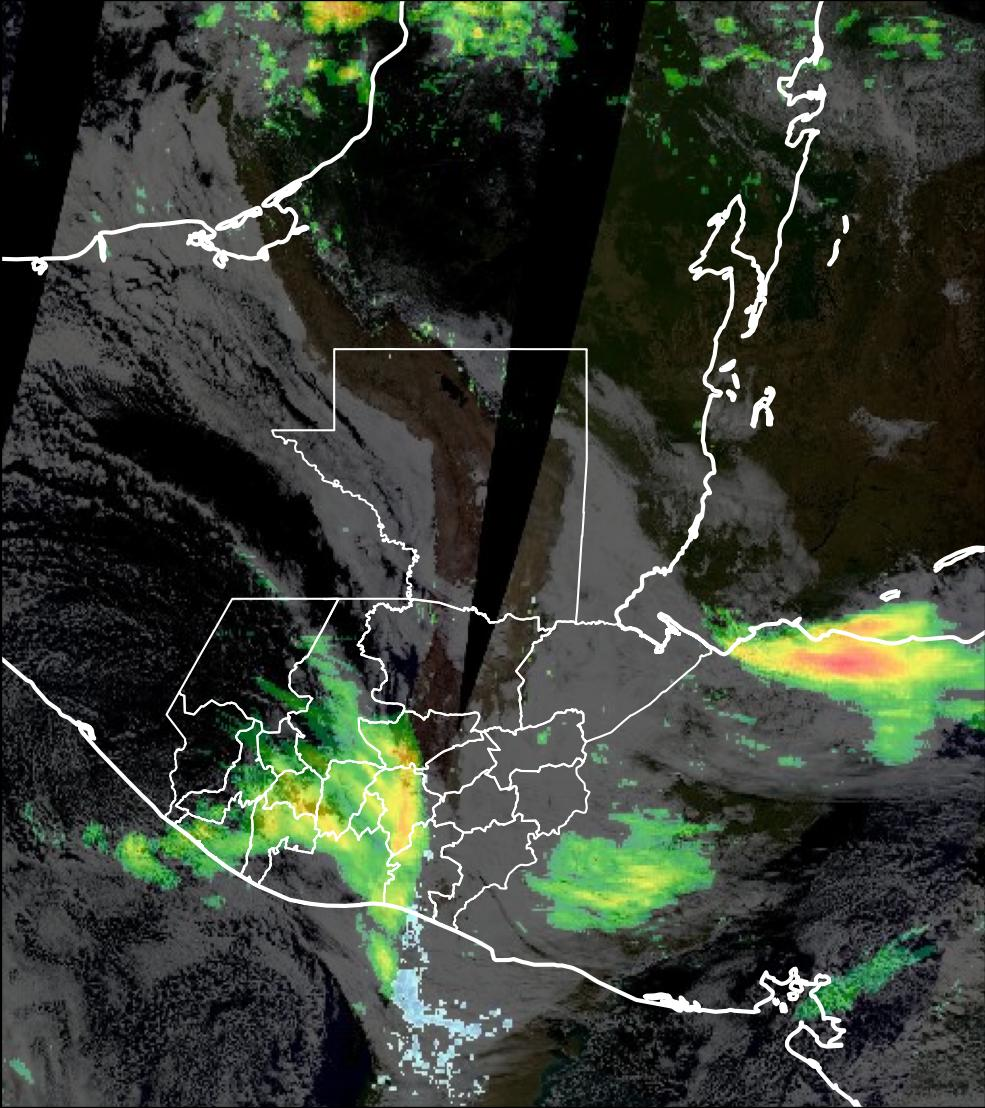precipitacion: (713, 604, 968, 704)
